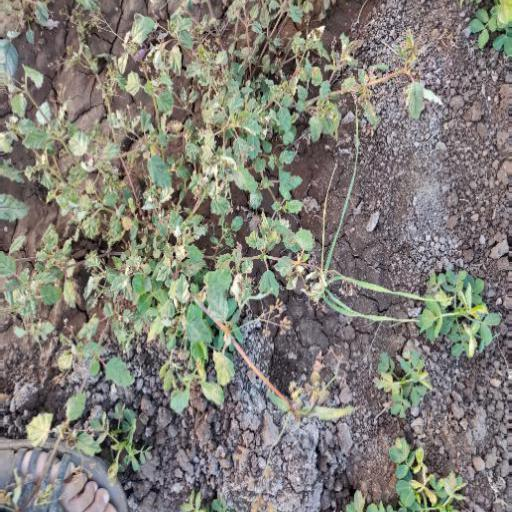weed: (1, 1, 384, 424), (411, 269, 498, 363)
